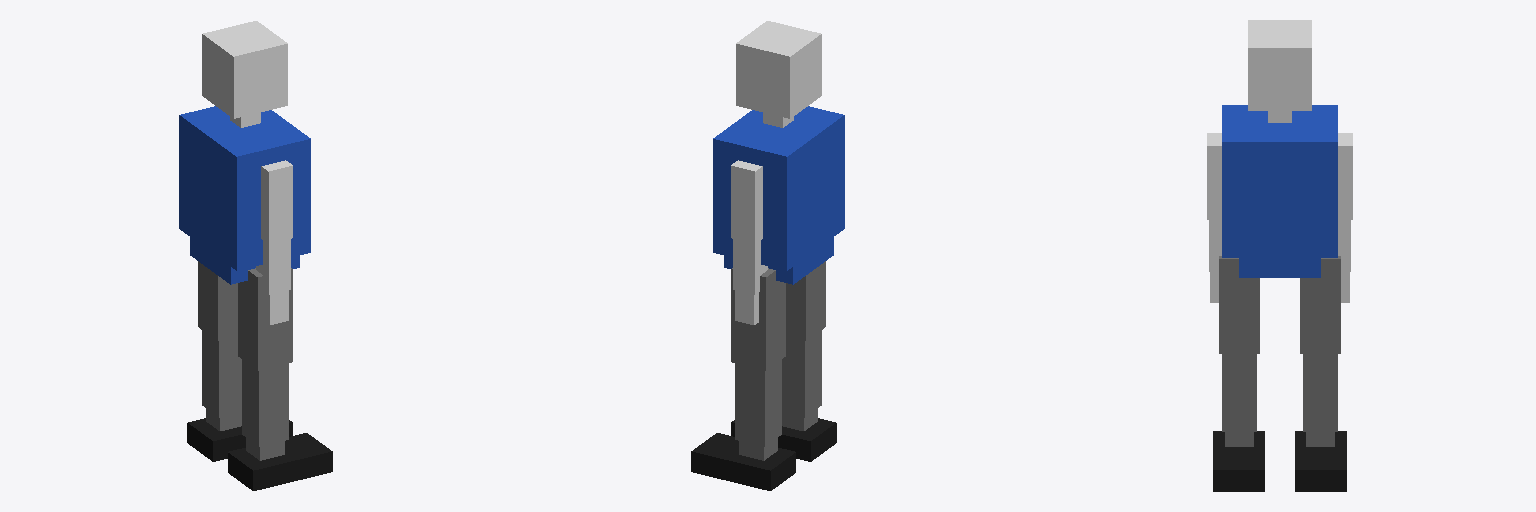
The robot description file, URDF, robot "alpha2":
<?xml version="1.0"?>
<!-- Alpha2 full 20-DOF URDF (sim-ready, primitives, no external meshes)
  來源:
  - C:/Users/user/Desktop/alpha2/Alpha2_pc/Robot/alpha2.xml (ID/Axis/Offset/InitAngle)
  - C:/Users/user/Desktop/alpha2/Alpha2_pc/Robot/alpha2.FBX (外觀mesh, pivot量link長用, 此檔先用box代替, 之後可換<mesh filename>)
  - ubtech-open-alpha2-beta5/scripts/ubx_walk_humanize.py CAL限位 + HOME pose
  - ubtech-open-alpha2-beta5/scripts/ubx_anatomy.py 關節中文名
  - sdk-module/hardware-direct/.../DirectChestController.java cmd3[20B+time]/cmd5單軸
  座標: x前 y左 z上, base_link=骨盆中心(離地約0.37m, spawn時自己抬高)
  servo碼<->sim換算(要實機校方向):
    rad = (servo - InitAngle) * pi/180 * SIGN
    SIGN預設+1, 真機上+10步睇下郁啱定反, 反就該軸SIGN=-1
  InitAngle(歸零位): [120,120,120,120,120,120,120,120,65,145,135,120,120,175,95,105,120,120,120,120]
  CAL(servo限位): {1:(5,235),2:(50,210),3:(55,185),4:(5,235),5:(30,190),6:(55,185),7:(100,200),8:(20,220),9:(35,230),10:(35,215),11:(100,190),12:(40,140),13:(20,220),14:(10,205),15:(25,205),16:(50,140),17:(95,125),18:(95,125),19:(75,165),20:(105,155)}
  sim2real注意: 全部clamp入CAL; 開場2s lead-in由HOME沉入首格; 發送間隔>=150ms, 唔好hammer胸板串口; trim(cmd12 EEPROM)唔好亂寫
-->
<robot name="alpha2">

  <!-- ================= BASE / TORSO ================= -->
  <link name="base_link">
    <visual><origin xyz="0 0 0" rpy="0 0 0"/><geometry><box size="0.14 0.14 0.08"/></geometry><material name="blue"><color rgba="0.2 0.4 0.8 1"/></material></visual>
    <collision><origin xyz="0 0 0" rpy="0 0 0"/><geometry><box size="0.14 0.14 0.08"/></geometry></collision>
    <inertial><mass value="0.8"/><inertia ixx="0.00173" ixy="0" ixz="0" iyy="0.00173" iyz="0" izz="0.00261"/></inertial>
  </link>

  <joint name="waist_fixed" type="fixed">
    <parent link="base_link"/><child link="torso_link"/><origin xyz="0 0 0.11" rpy="0 0 0"/>
  </joint>

  <link name="torso_link">
    <visual><origin xyz="0 0 0" rpy="0 0 0"/><geometry><box size="0.15 0.20 0.22"/></geometry><material name="blue"/></visual>
    <collision><origin xyz="0 0 0" rpy="0 0 0"/><geometry><box size="0.15 0.20 0.22"/></geometry></collision>
    <inertial><mass value="1.0"/><inertia ixx="0.00737" ixy="0" ixz="0" iyy="0.00591" iyz="0" izz="0.00521"/></inertial>
  </link>

  <!-- ================= RIGHT ARM (ID 1,2,3,17) ================= -->
  <!-- ID1 R肩上下 pitch Y, Init120 CAL5-235 -->
  <joint name="j1_r_shoulder_pitch" type="revolute">
    <parent link="torso_link"/><child link="r_shoulder_link"/><origin xyz="0 -0.10 0.08" rpy="0 0 0"/><axis xyz="0 1 0"/>
    <limit lower="-2.0071" upper="2.0071" effort="4.0" velocity="6.0"/>
    <dynamics damping="0.1" friction="0.05"/>
  </joint>
  <link name="r_shoulder_link">
    <visual><origin xyz="0 0 -0.02" rpy="0 0 0"/><geometry><box size="0.05 0.05 0.04"/></geometry><material name="white"><color rgba="0.9 0.9 0.9 1"/></material></visual>
    <collision><origin xyz="0 0 -0.02" rpy="0 0 0"/><geometry><box size="0.05 0.05 0.04"/></geometry></collision>
    <inertial><mass value="0.08"/><inertia ixx="0.000028" ixy="0" ixz="0" iyy="0.000028" iyz="0" izz="0.000033"/></inertial>
  </link>

  <!-- ID2 R肩左右 roll X, Init120 CAL50-210 -->
  <joint name="j2_r_shoulder_roll" type="revolute">
    <parent link="r_shoulder_link"/><child link="r_upper_arm_link"/><origin xyz="0 0 -0.04" rpy="0 0 0"/><axis xyz="1 0 0"/>
    <limit lower="-1.2217" upper="1.5708" effort="4.0" velocity="6.0"/>
    <dynamics damping="0.1" friction="0.05"/>
  </joint>
  <link name="r_upper_arm_link">
    <visual><origin xyz="0 0 -0.05" rpy="0 0 0"/><geometry><box size="0.05 0.05 0.10"/></geometry><material name="white"/></visual>
    <collision><origin xyz="0 0 -0.05" rpy="0 0 0"/><geometry><box size="0.05 0.05 0.10"/></geometry></collision>
    <inertial><mass value="0.15"/><inertia ixx="0.000156" ixy="0" ixz="0" iyy="0.000156" iyz="0" izz="0.000062"/></inertial>
  </link>

  <!-- ID3 R肘 pitch Y, Init120 CAL55-185 -->
  <joint name="j3_r_elbow" type="revolute">
    <parent link="r_upper_arm_link"/><child link="r_forearm_link"/><origin xyz="0 0 -0.10" rpy="0 0 0"/><axis xyz="0 1 0"/>
    <limit lower="-1.1345" upper="1.1345" effort="4.0" velocity="6.0"/>
    <dynamics damping="0.1" friction="0.05"/>
  </joint>
  <link name="r_forearm_link">
    <visual><origin xyz="0 0 -0.05" rpy="0 0 0"/><geometry><box size="0.045 0.045 0.10"/></geometry><material name="white"/></visual>
    <collision><origin xyz="0 0 -0.05" rpy="0 0 0"/><geometry><box size="0.045 0.045 0.10"/></geometry></collision>
    <inertial><mass value="0.12"/><inertia ixx="0.00012" ixy="0" ixz="0" iyy="0.00012" iyz="0" izz="0.00004"/></inertial>
  </link>

  <!-- ID17 R指 pitch Y, Init120 CAL95-125 -->
  <joint name="j17_r_finger" type="revolute">
    <parent link="r_forearm_link"/><child link="r_hand_link"/><origin xyz="0 0 -0.10" rpy="0 0 0"/><axis xyz="0 1 0"/>
    <limit lower="-0.4363" upper="0.0873" effort="0.5" velocity="6.0"/>
    <dynamics damping="0.05" friction="0.02"/>
  </joint>
  <link name="r_hand_link">
    <visual><origin xyz="0 0 -0.03" rpy="0 0 0"/><geometry><box size="0.04 0.04 0.06"/></geometry><material name="white"/></visual>
    <collision><origin xyz="0 0 -0.03" rpy="0 0 0"/><geometry><box size="0.04 0.04 0.06"/></geometry></collision>
    <inertial><mass value="0.05"/><inertia ixx="0.000021" ixy="0" ixz="0" iyy="0.000021" iyz="0" izz="0.000013"/></inertial>
  </link>

  <!-- ================= LEFT ARM (ID 4,5,6,18) ================= -->
  <joint name="j4_l_shoulder_pitch" type="revolute">
    <parent link="torso_link"/><child link="l_shoulder_link"/><origin xyz="0 0.10 0.08" rpy="0 0 0"/><axis xyz="0 1 0"/>
    <limit lower="-2.0071" upper="2.0071" effort="4.0" velocity="6.0"/>
    <dynamics damping="0.1" friction="0.05"/>
  </joint>
  <link name="l_shoulder_link">
    <visual><origin xyz="0 0 -0.02" rpy="0 0 0"/><geometry><box size="0.05 0.05 0.04"/></geometry><material name="white"/></visual>
    <collision><origin xyz="0 0 -0.02" rpy="0 0 0"/><geometry><box size="0.05 0.05 0.04"/></geometry></collision>
    <inertial><mass value="0.08"/><inertia ixx="0.000028" ixy="0" ixz="0" iyy="0.000028" iyz="0" izz="0.000033"/></inertial>
  </link>

  <joint name="j5_l_shoulder_roll" type="revolute">
    <parent link="l_shoulder_link"/><child link="l_upper_arm_link"/><origin xyz="0 0 -0.04" rpy="0 0 0"/><axis xyz="1 0 0"/>
    <limit lower="-1.5708" upper="1.2217" effort="4.0" velocity="6.0"/>
    <dynamics damping="0.1" friction="0.05"/>
  </joint>
  <link name="l_upper_arm_link">
    <visual><origin xyz="0 0 -0.05" rpy="0 0 0"/><geometry><box size="0.05 0.05 0.10"/></geometry><material name="white"/></visual>
    <collision><origin xyz="0 0 -0.05" rpy="0 0 0"/><geometry><box size="0.05 0.05 0.10"/></geometry></collision>
    <inertial><mass value="0.15"/><inertia ixx="0.000156" ixy="0" ixz="0" iyy="0.000156" iyz="0" izz="0.000062"/></inertial>
  </link>

  <joint name="j6_l_elbow" type="revolute">
    <parent link="l_upper_arm_link"/><child link="l_forearm_link"/><origin xyz="0 0 -0.10" rpy="0 0 0"/><axis xyz="0 1 0"/>
    <limit lower="-1.1345" upper="1.1345" effort="4.0" velocity="6.0"/>
    <dynamics damping="0.1" friction="0.05"/>
  </joint>
  <link name="l_forearm_link">
    <visual><origin xyz="0 0 -0.05" rpy="0 0 0"/><geometry><box size="0.045 0.045 0.10"/></geometry><material name="white"/></visual>
    <collision><origin xyz="0 0 -0.05" rpy="0 0 0"/><geometry><box size="0.045 0.045 0.10"/></geometry></collision>
    <inertial><mass value="0.12"/><inertia ixx="0.00012" ixy="0" ixz="0" iyy="0.00012" iyz="0" izz="0.00004"/></inertial>
  </link>

  <joint name="j18_l_finger" type="revolute">
    <parent link="l_forearm_link"/><child link="l_hand_link"/><origin xyz="0 0 -0.10" rpy="0 0 0"/><axis xyz="0 1 0"/>
    <limit lower="-0.4363" upper="0.0873" effort="0.5" velocity="6.0"/>
    <dynamics damping="0.05" friction="0.02"/>
  </joint>
  <link name="l_hand_link">
    <visual><origin xyz="0 0 -0.03" rpy="0 0 0"/><geometry><box size="0.04 0.04 0.06"/></geometry><material name="white"/></visual>
    <collision><origin xyz="0 0 -0.03" rpy="0 0 0"/><geometry><box size="0.04 0.04 0.06"/></geometry></collision>
    <inertial><mass value="0.05"/><inertia ixx="0.000021" ixy="0" ixz="0" iyy="0.000021" iyz="0" izz="0.000013"/></inertial>
  </link>

  <!-- ================= RIGHT LEG (ID 7,8,9,10,11) ================= -->
  <!-- ID7 R髖左右 roll X, Init120 CAL100-200 -->
  <joint name="j7_r_hip_roll" type="revolute">
    <parent link="base_link"/><child link="r_hip_link"/><origin xyz="0 -0.07 -0.02" rpy="0 0 0"/><axis xyz="1 0 0"/>
    <limit lower="-0.3491" upper="1.3963" effort="12.0" velocity="5.0"/>
    <dynamics damping="0.15" friction="0.08"/>
  </joint>
  <link name="r_hip_link">
    <visual><origin xyz="0 0 -0.015" rpy="0 0 0"/><geometry><box size="0.07 0.07 0.03"/></geometry><material name="grey"><color rgba="0.5 0.5 0.5 1"/></material></visual>
    <collision><origin xyz="0 0 -0.015" rpy="0 0 0"/><geometry><box size="0.07 0.07 0.03"/></geometry></collision>
    <inertial><mass value="0.08"/><inertia ixx="0.000039" ixy="0" ixz="0" iyy="0.000039" iyz="0" izz="0.000065"/></inertial>
  </link>

  <!-- ID8 R髖上下 pitch Y, Init65 CAL20-220 -->
  <joint name="j8_r_hip_pitch" type="revolute">
    <parent link="r_hip_link"/><child link="r_thigh_link"/><origin xyz="0 0 -0.03" rpy="0 0 0"/><axis xyz="0 1 0"/>
    <limit lower="-0.7854" upper="2.7053" effort="12.0" velocity="5.0"/>
    <dynamics damping="0.15" friction="0.08"/>
  </joint>
  <link name="r_thigh_link">
    <visual><origin xyz="0 0 -0.075" rpy="0 0 0"/><geometry><box size="0.07 0.07 0.15"/></geometry><material name="grey"/></visual>
    <collision><origin xyz="0 0 -0.075" rpy="0 0 0"/><geometry><box size="0.07 0.07 0.15"/></geometry></collision>
    <inertial><mass value="0.30"/><inertia ixx="0.00068" ixy="0" ixz="0" iyy="0.00068" iyz="0" izz="0.000245"/></inertial>
  </link>

  <!-- ID9 R膝 pitch Y, Init145 CAL35-230 -->
  <joint name="j9_r_knee" type="revolute">
    <parent link="r_thigh_link"/><child link="r_shank_link"/><origin xyz="0 0 -0.15" rpy="0 0 0"/><axis xyz="0 1 0"/>
    <limit lower="-1.9199" upper="1.4835" effort="12.0" velocity="5.0"/>
    <dynamics damping="0.15" friction="0.08"/>
  </joint>
  <link name="r_shank_link">
    <visual><origin xyz="0 0 -0.075" rpy="0 0 0"/><geometry><box size="0.06 0.06 0.15"/></geometry><material name="grey"/></visual>
    <collision><origin xyz="0 0 -0.075" rpy="0 0 0"/><geometry><box size="0.06 0.06 0.15"/></geometry></collision>
    <inertial><mass value="0.25"/><inertia ixx="0.000544" ixy="0" ixz="0" iyy="0.000544" iyz="0" izz="0.00015"/></inertial>
  </link>

  <!-- ID10 R踝上下 pitch Y, Init135 CAL35-215 -->
  <joint name="j10_r_ankle_pitch" type="revolute">
    <parent link="r_shank_link"/><child link="r_ankle_link"/><origin xyz="0 0 -0.15" rpy="0 0 0"/><axis xyz="0 1 0"/>
    <limit lower="-1.7453" upper="1.3963" effort="8.0" velocity="5.0"/>
    <dynamics damping="0.12" friction="0.06"/>
  </joint>
  <link name="r_ankle_link">
    <visual><origin xyz="0 0 -0.015" rpy="0 0 0"/><geometry><box size="0.05 0.05 0.03"/></geometry><material name="grey"/></visual>
    <collision><origin xyz="0 0 -0.015" rpy="0 0 0"/><geometry><box size="0.05 0.05 0.03"/></geometry></collision>
    <inertial><mass value="0.08"/><inertia ixx="0.000039" ixy="0" ixz="0" iyy="0.000039" iyz="0" izz="0.000065"/></inertial>
  </link>

  <!-- ID11 R踝左右 roll X, Init120 CAL100-190 -->
  <joint name="j11_r_ankle_roll" type="revolute">
    <parent link="r_ankle_link"/><child link="r_foot_link"/><origin xyz="0 0 -0.03" rpy="0 0 0"/><axis xyz="1 0 0"/>
    <limit lower="-0.3491" upper="1.2217" effort="8.0" velocity="5.0"/>
    <dynamics damping="0.12" friction="0.06"/>
  </joint>
  <link name="r_foot_link">
    <visual><origin xyz="0.03 0 -0.025" rpy="0 0 0"/><geometry><box size="0.16 0.09 0.04"/></geometry><material name="black"><color rgba="0.15 0.15 0.15 1"/></material></visual>
    <collision><origin xyz="0.03 0 -0.025" rpy="0 0 0"/><geometry><box size="0.16 0.09 0.04"/></geometry></collision>
    <inertial><mass value="0.15"/><inertia ixx="0.000118" ixy="0" ixz="0" iyy="0.000257" iyz="0" izz="0.000326"/></inertial>
  </link>

  <!-- ================= LEFT LEG (ID 12,13,14,15,16) ================= -->
  <joint name="j12_l_hip_roll" type="revolute">
    <parent link="base_link"/><child link="l_hip_link"/><origin xyz="0 0.07 -0.02" rpy="0 0 0"/><axis xyz="1 0 0"/>
    <limit lower="-1.3963" upper="0.3491" effort="12.0" velocity="5.0"/>
    <dynamics damping="0.15" friction="0.08"/>
  </joint>
  <link name="l_hip_link">
    <visual><origin xyz="0 0 -0.015" rpy="0 0 0"/><geometry><box size="0.07 0.07 0.03"/></geometry><material name="grey"/></visual>
    <collision><origin xyz="0 0 -0.015" rpy="0 0 0"/><geometry><box size="0.07 0.07 0.03"/></geometry></collision>
    <inertial><mass value="0.08"/><inertia ixx="0.000039" ixy="0" ixz="0" iyy="0.000039" iyz="0" izz="0.000065"/></inertial>
  </link>

  <joint name="j13_l_hip_pitch" type="revolute">
    <parent link="l_hip_link"/><child link="l_thigh_link"/><origin xyz="0 0 -0.03" rpy="0 0 0"/><axis xyz="0 1 0"/>
    <limit lower="-2.7053" upper="0.7854" effort="12.0" velocity="5.0"/>
    <dynamics damping="0.15" friction="0.08"/>
  </joint>
  <link name="l_thigh_link">
    <visual><origin xyz="0 0 -0.075" rpy="0 0 0"/><geometry><box size="0.07 0.07 0.15"/></geometry><material name="grey"/></visual>
    <collision><origin xyz="0 0 -0.075" rpy="0 0 0"/><geometry><box size="0.07 0.07 0.15"/></geometry></collision>
    <inertial><mass value="0.30"/><inertia ixx="0.00068" ixy="0" ixz="0" iyy="0.00068" iyz="0" izz="0.000245"/></inertial>
  </link>

  <joint name="j14_l_knee" type="revolute">
    <parent link="l_thigh_link"/><child link="l_shank_link"/><origin xyz="0 0 -0.15" rpy="0 0 0"/><axis xyz="0 1 0"/>
    <limit lower="-1.4835" upper="1.9199" effort="12.0" velocity="5.0"/>
    <dynamics damping="0.15" friction="0.08"/>
  </joint>
  <link name="l_shank_link">
    <visual><origin xyz="0 0 -0.075" rpy="0 0 0"/><geometry><box size="0.06 0.06 0.15"/></geometry><material name="grey"/></visual>
    <collision><origin xyz="0 0 -0.075" rpy="0 0 0"/><geometry><box size="0.06 0.06 0.15"/></geometry></collision>
    <inertial><mass value="0.25"/><inertia ixx="0.000544" ixy="0" ixz="0" iyy="0.000544" iyz="0" izz="0.00015"/></inertial>
  </link>

  <joint name="j15_l_ankle_pitch" type="revolute">
    <parent link="l_shank_link"/><child link="l_ankle_link"/><origin xyz="0 0 -0.15" rpy="0 0 0"/><axis xyz="0 1 0"/>
    <limit lower="-1.3963" upper="1.7453" effort="8.0" velocity="5.0"/>
    <dynamics damping="0.12" friction="0.06"/>
  </joint>
  <link name="l_ankle_link">
    <visual><origin xyz="0 0 -0.015" rpy="0 0 0"/><geometry><box size="0.05 0.05 0.03"/></geometry><material name="grey"/></visual>
    <collision><origin xyz="0 0 -0.015" rpy="0 0 0"/><geometry><box size="0.05 0.05 0.03"/></geometry></collision>
    <inertial><mass value="0.08"/><inertia ixx="0.000039" ixy="0" ixz="0" iyy="0.000039" iyz="0" izz="0.000065"/></inertial>
  </link>

  <joint name="j16_l_ankle_roll" type="revolute">
    <parent link="l_ankle_link"/><child link="l_foot_link"/><origin xyz="0 0 -0.03" rpy="0 0 0"/><axis xyz="1 0 0"/>
    <limit lower="-1.2217" upper="0.3491" effort="8.0" velocity="5.0"/>
    <dynamics damping="0.12" friction="0.06"/>
  </joint>
  <link name="l_foot_link">
    <visual><origin xyz="0.03 0 -0.025" rpy="0 0 0"/><geometry><box size="0.16 0.09 0.04"/></geometry><material name="black"/></visual>
    <collision><origin xyz="0.03 0 -0.025" rpy="0 0 0"/><geometry><box size="0.16 0.09 0.04"/></geometry></collision>
    <inertial><mass value="0.15"/><inertia ixx="0.000118" ixy="0" ixz="0" iyy="0.000257" iyz="0" izz="0.000326"/></inertial>
  </link>

  <!-- ================= HEAD (ID 19,20) ================= -->
  <!-- ID19 頭左右 yaw Z, Init120 CAL75-165 -->
  <joint name="j19_head_yaw" type="revolute">
    <parent link="torso_link"/><child link="neck_link"/><origin xyz="0 0 0.12" rpy="0 0 0"/><axis xyz="0 0 1"/>
    <limit lower="-0.7854" upper="0.7854" effort="1.5" velocity="6.0"/>
    <dynamics damping="0.05" friction="0.02"/>
  </joint>
  <link name="neck_link">
    <visual><origin xyz="0 0 0.015" rpy="0 0 0"/><geometry><box size="0.04 0.04 0.03"/></geometry><material name="white"/></visual>
    <collision><origin xyz="0 0 0.015" rpy="0 0 0"/><geometry><box size="0.04 0.04 0.03"/></geometry></collision>
    <inertial><mass value="0.05"/><inertia ixx="0.00001" ixy="0" ixz="0" iyy="0.00001" iyz="0" izz="0.000013"/></inertial>
  </link>

  <!-- ID20 頭上下 pitch Y, Init120 CAL105-155 -->
  <joint name="j20_head_pitch" type="revolute">
    <parent link="neck_link"/><child link="head_link"/><origin xyz="0 0 0.03" rpy="0 0 0"/><axis xyz="0 1 0"/>
    <limit lower="-0.2618" upper="0.6109" effort="1.5" velocity="6.0"/>
    <dynamics damping="0.05" friction="0.02"/>
  </joint>
  <link name="head_link">
    <visual><origin xyz="0 0 0.07" rpy="0 0 0"/><geometry><box size="0.11 0.11 0.12"/></geometry><material name="white"/></visual>
    <collision><origin xyz="0 0 0.07" rpy="0 0 0"/><geometry><box size="0.11 0.11 0.12"/></geometry></collision>
    <inertial><mass value="0.30"/><inertia ixx="0.000665" ixy="0" ixz="0" iyy="0.000665" iyz="0" izz="0.000605"/></inertial>
  </link>

</robot>

--- Render facts (derived) ---
The picture shows the robot from 3 angles, left to right: view 1: azimuth 30°, elevation 25°; view 2: azimuth 150°, elevation 25°; view 3: azimuth 270°, elevation 25°; orthographic projection.
Robot: alpha2 — 22 links, 21 joints (20 revolute, 1 fixed); root link base_link; default pose: every joint at zero.
Visible links, largest first — view 1: torso_link, head_link, r_foot_link, r_shank_link, r_thigh_link, l_shank_link, l_thigh_link, l_foot_link, r_upper_arm_link, r_forearm_link, base_link, r_shoulder_link (+2 smaller); view 2: torso_link, head_link, l_foot_link, l_shank_link, l_thigh_link, r_shank_link, r_thigh_link, r_foot_link, l_upper_arm_link, l_forearm_link, base_link, l_shoulder_link (+2 smaller); view 3: torso_link, head_link, r_thigh_link, l_thigh_link, r_shank_link, l_shank_link, r_foot_link, l_foot_link, base_link, r_upper_arm_link, l_upper_arm_link, r_forearm_link (+1 smaller).
Link boxes in pixels (x1=…): torso_link: x1=179, y1=106, x2=310, y2=270; head_link: x1=202, y1=21, x2=287, y2=118; r_foot_link: x1=228, y1=433, x2=332, y2=490; r_shank_link: x1=242, y1=360, x2=288, y2=446; r_thigh_link: x1=238, y1=282, x2=292, y2=370; l_shank_link: x1=202, y1=330, x2=241, y2=417; l_thigh_link: x1=198, y1=261, x2=237, y2=340; l_foot_link: x1=187, y1=418, x2=292, y2=461; r_upper_arm_link: x1=261, y1=187, x2=292, y2=243; r_forearm_link: x1=256, y1=239, x2=290, y2=294; base_link: x1=190, y1=237, x2=299, y2=284; r_shoulder_link: x1=261, y1=160, x2=292, y2=191; torso_link: x1=713, y1=106, x2=844, y2=270; head_link: x1=736, y1=21, x2=821, y2=118; l_foot_link: x1=691, y1=433, x2=795, y2=490; l_shank_link: x1=735, y1=360, x2=781, y2=446; l_thigh_link: x1=731, y1=282, x2=785, y2=370; r_shank_link: x1=782, y1=330, x2=821, y2=417; r_thigh_link: x1=786, y1=261, x2=825, y2=340; r_foot_link: x1=731, y1=418, x2=836, y2=461; l_upper_arm_link: x1=731, y1=187, x2=762, y2=243; l_forearm_link: x1=733, y1=239, x2=767, y2=294; base_link: x1=724, y1=237, x2=833, y2=284; l_shoulder_link: x1=731, y1=160, x2=762, y2=191; torso_link: x1=1222, y1=105, x2=1337, y2=257; head_link: x1=1248, y1=20, x2=1311, y2=110; r_thigh_link: x1=1219, y1=275, x2=1259, y2=353; l_thigh_link: x1=1300, y1=275, x2=1340, y2=353; r_shank_link: x1=1222, y1=354, x2=1256, y2=431; l_shank_link: x1=1303, y1=354, x2=1337, y2=431; r_foot_link: x1=1213, y1=431, x2=1264, y2=491; l_foot_link: x1=1295, y1=431, x2=1346, y2=491; base_link: x1=1239, y1=258, x2=1320, y2=277; r_upper_arm_link: x1=1207, y1=167, x2=1221, y2=219; l_upper_arm_link: x1=1338, y1=167, x2=1352, y2=219; r_forearm_link: x1=1209, y1=220, x2=1221, y2=271.
Size in the robot's own frame: 0.185 by 0.25 by 0.815 metres.
Geometry: primitives only (box / cylinder / sphere), no mesh files.
